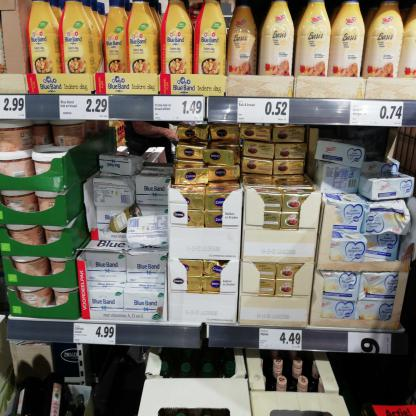prtg: (350, 102, 405, 128), (238, 99, 291, 124), (60, 96, 110, 121), (155, 97, 205, 122), (260, 329, 303, 352), (74, 324, 117, 346), (1, 97, 27, 121)
